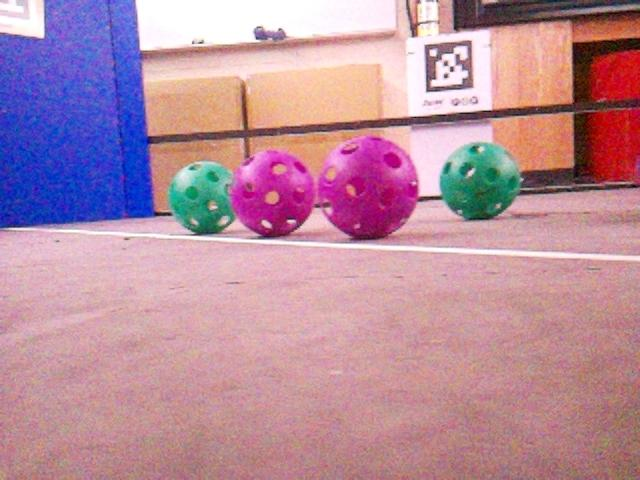Green: (438, 141, 521, 220), (166, 161, 236, 234)
Purple: (316, 135, 419, 238), (229, 149, 315, 237)
